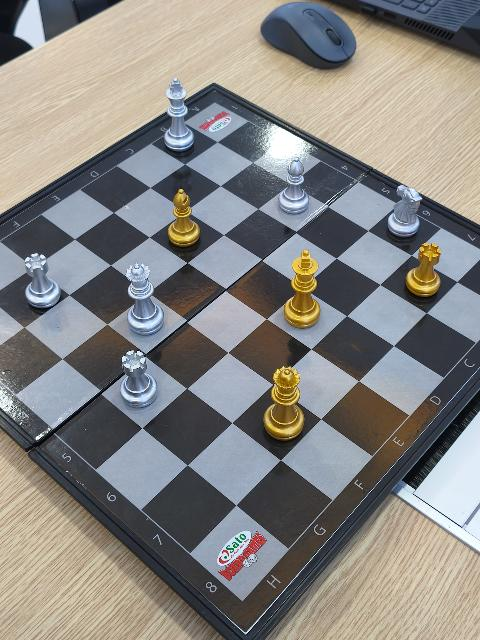black_bishop: (167, 188, 202, 249)
black_king: (284, 249, 322, 330)
black_queen: (262, 367, 307, 444)
black_rook: (405, 243, 443, 301)
white_bishop: (278, 156, 310, 217)
white_king: (163, 77, 195, 153)
white_knight: (386, 184, 423, 241)
white_queen: (126, 263, 165, 338)
white_rook: (23, 252, 62, 311), (121, 351, 157, 409)
